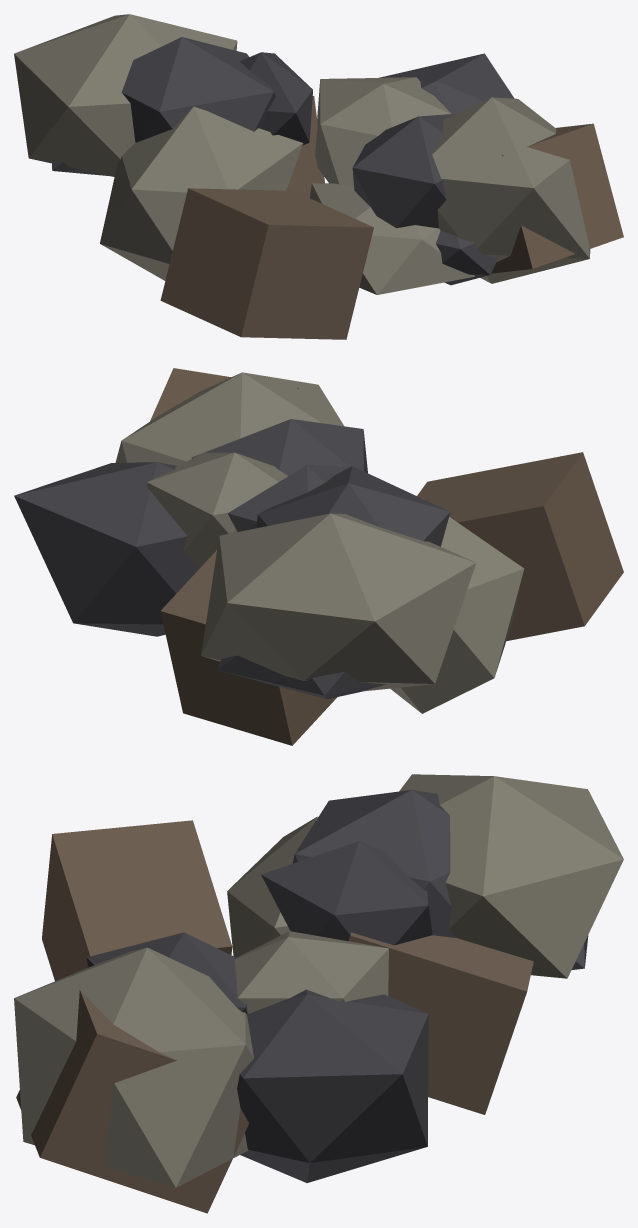
The model's file is obs_trash.glb.
3 renders of one model, top to bottom at view 1: azimuth 30°, elevation 25°; view 2: azimuth 150°, elevation 25°; view 3: azimuth 270°, elevation 25°, orthographic. The views are drawn at different scales.
Parts seen in each view (by area): view 1: obs_trash; view 2: obs_trash; view 3: obs_trash.
Part boxes in pixels (x1,y1,x2,y2): obs_trash: (14, 14, 623, 339); obs_trash: (14, 368, 623, 745); obs_trash: (14, 774, 623, 1213).
Size of the model in its own units: 1.47 by 0.7452 by 1.48.
